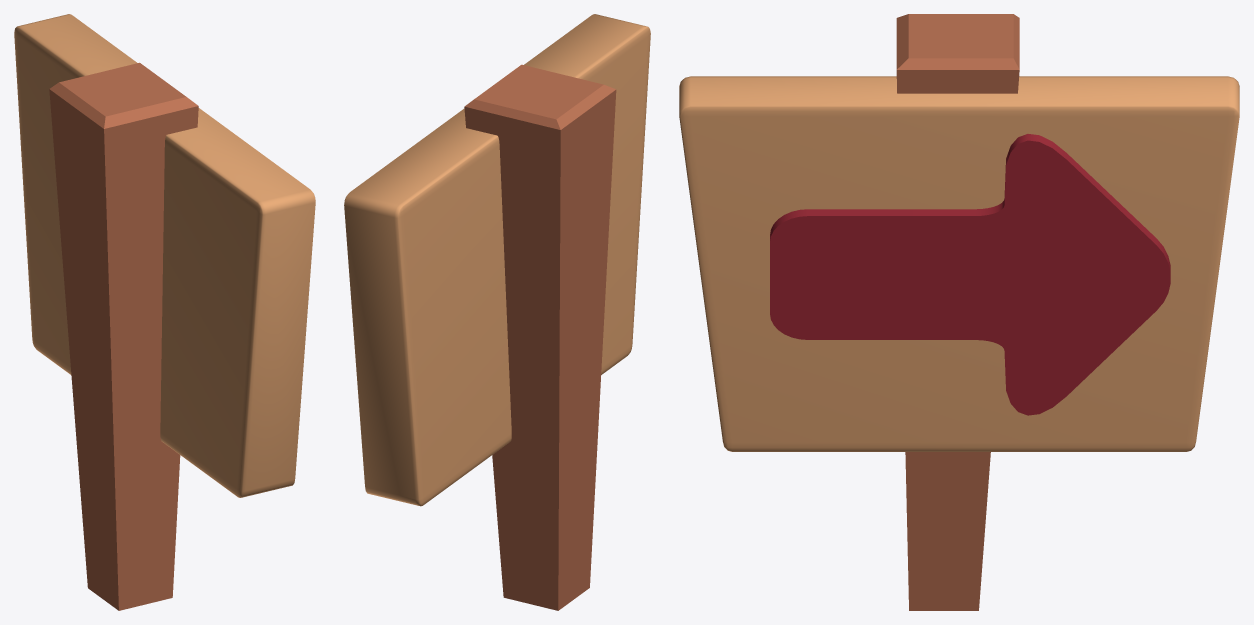
File: Arrow Sign.fbx
3 views of the same model, side by side, from view 1: azimuth 30°, elevation 25°; view 2: azimuth 150°, elevation 25°; view 3: azimuth 270°, elevation 25° (orthographic). The views are drawn at different scales.
Visible parts, largest first — view 1: Sign; view 2: Sign; view 3: Sign, Arrow.
Boxes of the visible parts, x1,y1,x2,y2 form: Sign: [14, 14, 315, 610]; Sign: [344, 14, 650, 610]; Sign: [679, 14, 1239, 610]; Arrow: [770, 134, 1170, 415].
Bounding box in the file's own units: 70.3 × 260 × 236.
